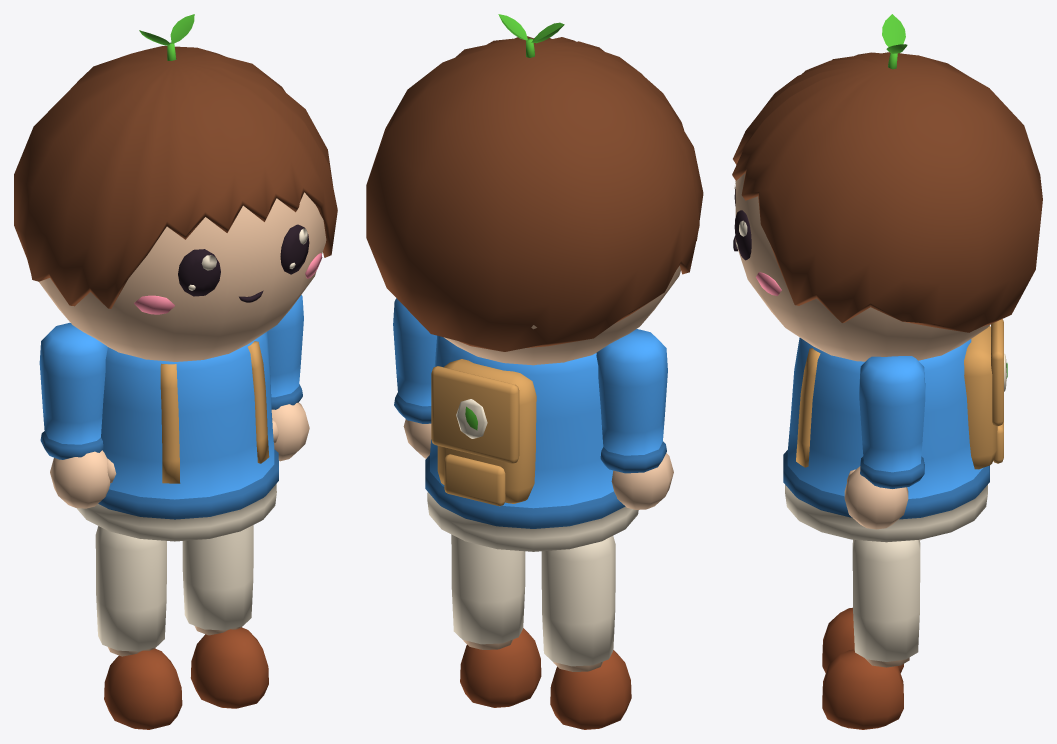
File: hero-man-teen.glb
The picture shows the model from 3 angles, left to right: view 1: azimuth 30°, elevation 25°; view 2: azimuth 150°, elevation 25°; view 3: azimuth 270°, elevation 25°; orthographic projection. The views are drawn at different scales.
Parts seen in each view (by area): view 1: head, body, leg-left, leg-right, arm-left, arm-right, head-leaf; view 2: head, body, leg-left, leg-right, arm-left, arm-right, head-leaf; view 3: head, body, leg-right, arm-right, leg-left, head-leaf.
Boxes of the visible parts, box(x1,y1,x2,y2) form: head: box(14, 46, 337, 361); body: box(76, 332, 278, 541); leg-left: box(95, 526, 182, 729); leg-right: box(182, 525, 268, 708); arm-left: box(39, 322, 116, 508); arm-right: box(267, 295, 309, 461); head-leaf: box(139, 14, 194, 60); head: box(366, 36, 703, 365); body: box(425, 335, 638, 551); leg-left: box(541, 536, 631, 729); leg-right: box(451, 534, 541, 707); arm-left: box(596, 329, 673, 509); arm-right: box(393, 298, 436, 458); head-leaf: box(498, 14, 564, 57); head: box(732, 52, 1042, 361); body: box(783, 319, 1007, 542); leg-right: box(822, 540, 920, 729); arm-right: box(844, 356, 925, 529); leg-left: box(822, 539, 920, 673); head-leaf: box(882, 14, 907, 69).
Bounding box in the file's own units: 1.11 × 2.53 × 1.07.
